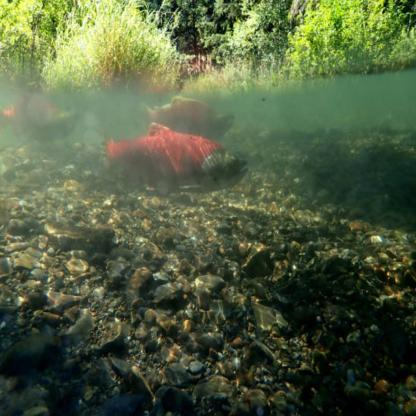sockeye: (102, 122, 248, 192)
